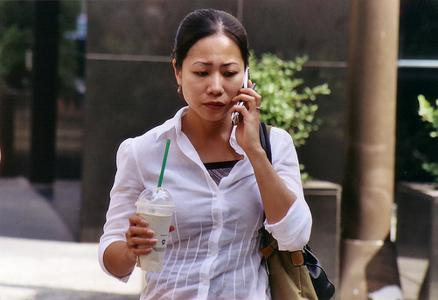person: (100, 10, 313, 300)
